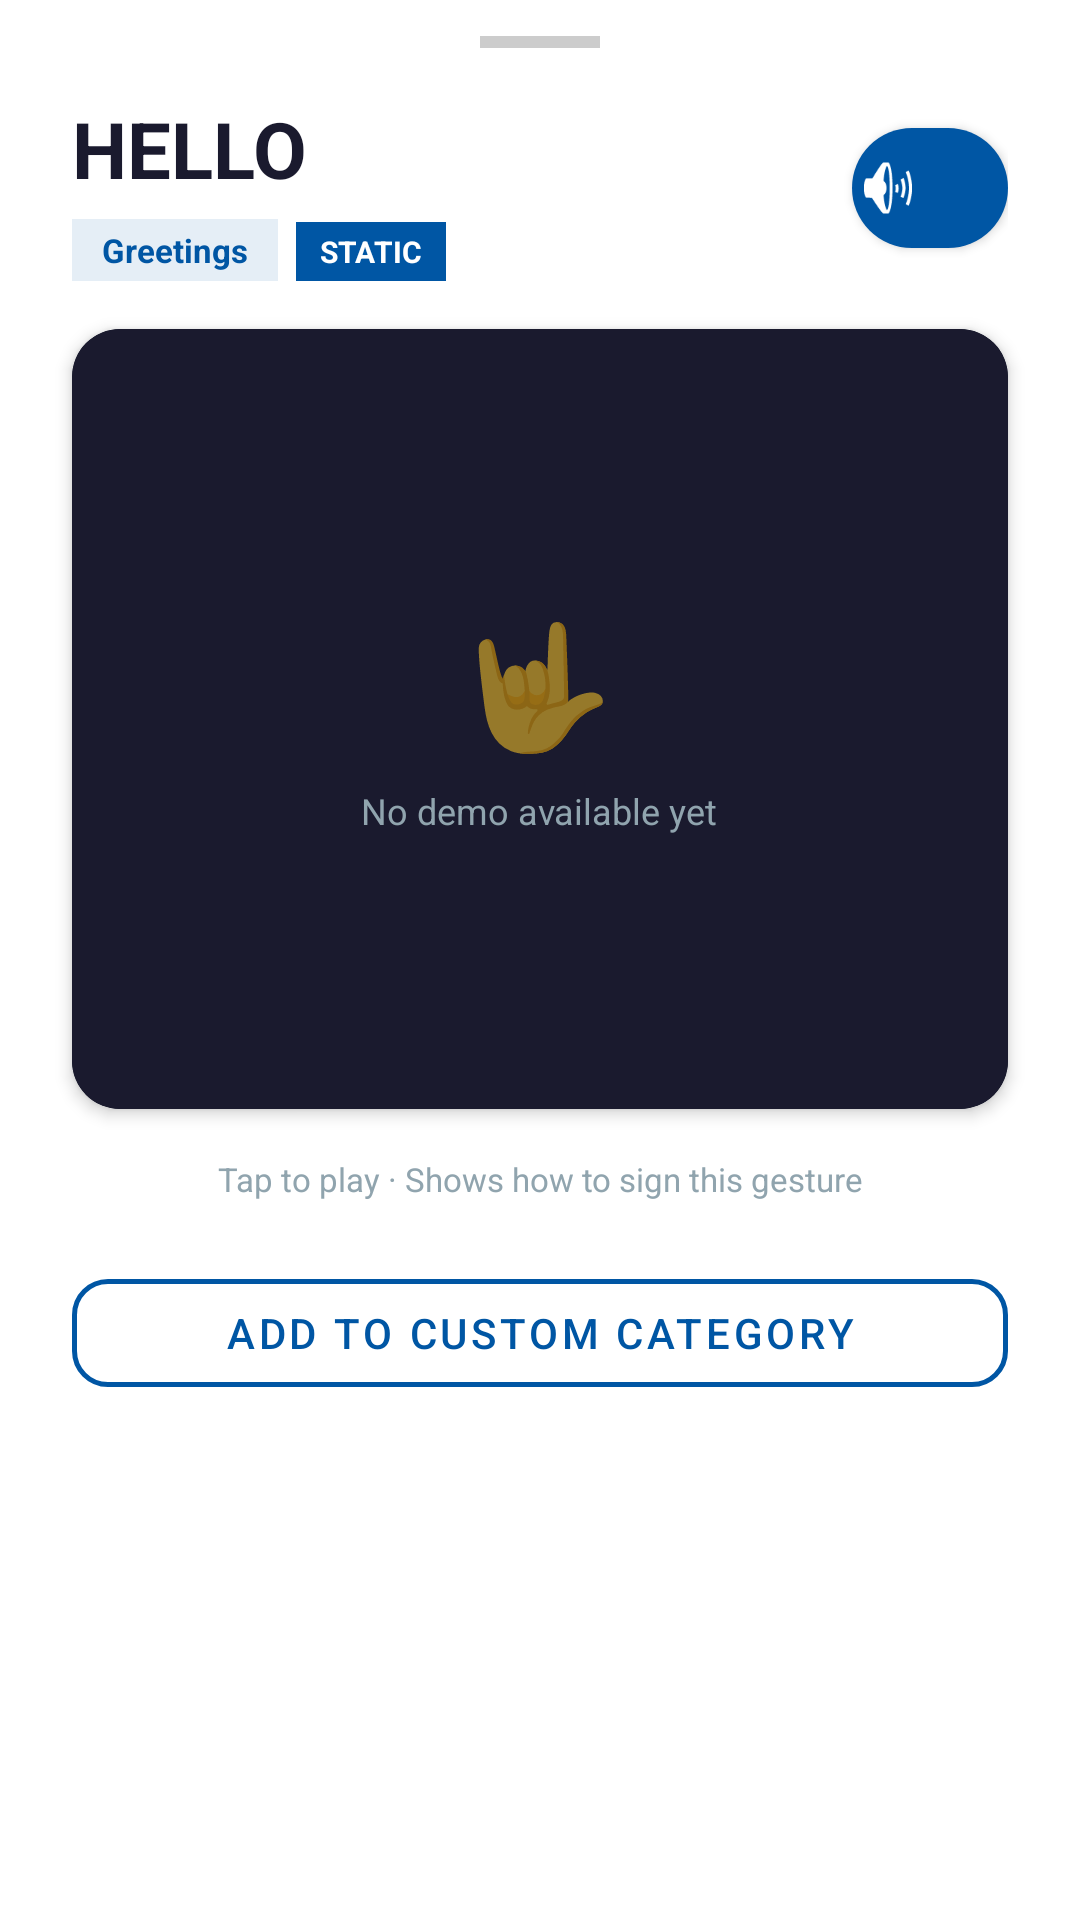

Icon click points for this 1080w x 1920h phone screenshot, format (x,y):
Play audio pronunciation: (930,188)
